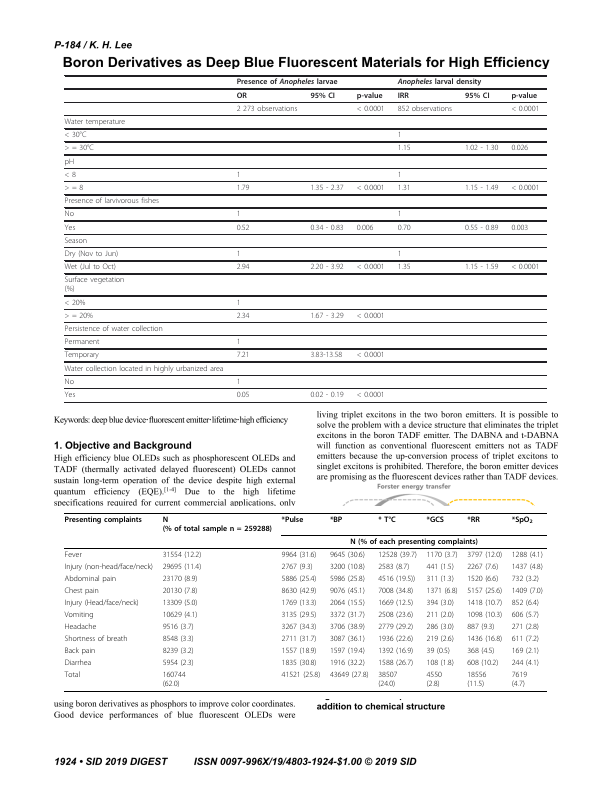borderless: (63, 74, 547, 402), (63, 511, 547, 691)
cell: (162, 515, 273, 533), (64, 364, 224, 374), (349, 537, 479, 547), (64, 276, 125, 294), (236, 78, 338, 87), (64, 562, 154, 572), (64, 325, 164, 334), (64, 197, 160, 206), (397, 78, 482, 87), (64, 598, 140, 608), (64, 515, 143, 524), (64, 634, 128, 644), (236, 104, 298, 114), (397, 104, 453, 114), (64, 118, 126, 127), (64, 574, 117, 584), (64, 250, 119, 259), (64, 263, 117, 272), (162, 670, 186, 688), (377, 550, 418, 560), (162, 550, 202, 560), (162, 562, 202, 572), (377, 574, 416, 584), (377, 670, 398, 688), (466, 670, 487, 688), (329, 550, 366, 560), (466, 550, 503, 560), (329, 562, 366, 572), (329, 574, 366, 584), (329, 586, 366, 596), (377, 586, 414, 596), (466, 586, 503, 596), (329, 598, 366, 608), (377, 598, 414, 608), (466, 598, 503, 608), (329, 610, 366, 620), (377, 610, 414, 620), (466, 610, 503, 620), (329, 622, 366, 632), (377, 622, 414, 632), (329, 634, 366, 644), (377, 634, 414, 644), (466, 634, 503, 644), (281, 550, 317, 560), (162, 574, 198, 584), (281, 574, 317, 584), (64, 586, 100, 596), (162, 586, 198, 596), (281, 586, 317, 596), (162, 598, 198, 608), (281, 598, 317, 608), (162, 610, 198, 620), (281, 610, 317, 620), (281, 622, 317, 632), (281, 634, 317, 644), (281, 670, 321, 679), (329, 670, 369, 679), (309, 223, 345, 233), (309, 311, 345, 321), (309, 390, 345, 400), (464, 223, 499, 233), (329, 646, 366, 655), (377, 646, 414, 655), (329, 658, 366, 667), (377, 658, 414, 667), (425, 550, 458, 560), (511, 550, 544, 560), (281, 562, 314, 572), (377, 562, 410, 572), (466, 562, 499, 572), (511, 562, 544, 572), (466, 574, 499, 584), (425, 586, 458, 596), (511, 586, 544, 596), (64, 622, 97, 632), (162, 622, 195, 632), (162, 634, 195, 644), (281, 646, 317, 655), (281, 658, 317, 667), (425, 670, 443, 688), (309, 184, 345, 193), (309, 263, 345, 272), (64, 338, 100, 347), (64, 351, 100, 360), (464, 144, 499, 153), (464, 184, 499, 193), (464, 263, 499, 272), (511, 670, 528, 688), (309, 351, 343, 360), (425, 562, 455, 572), (425, 574, 455, 584), (425, 598, 455, 608), (64, 610, 94, 620), (425, 610, 455, 620), (425, 622, 455, 632), (425, 634, 455, 644), (356, 104, 386, 114), (510, 104, 540, 114), (64, 311, 94, 321), (356, 311, 386, 321), (356, 390, 386, 400), (162, 646, 195, 655), (162, 658, 195, 667), (466, 658, 499, 667), (511, 574, 540, 584), (511, 598, 540, 608), (511, 610, 540, 620), (466, 622, 495, 632), (511, 622, 540, 632), (511, 634, 540, 644), (64, 646, 96, 655), (510, 91, 538, 101), (64, 144, 95, 153), (425, 658, 455, 667), (309, 91, 336, 101), (356, 91, 383, 101), (356, 184, 386, 193), (510, 184, 540, 193), (356, 263, 386, 272), (510, 263, 540, 272), (356, 351, 386, 360), (466, 646, 495, 655), (511, 646, 540, 655), (511, 658, 540, 667), (464, 91, 490, 101), (64, 658, 92, 667), (64, 236, 88, 246), (425, 646, 451, 655), (511, 515, 534, 525), (64, 298, 86, 308), (281, 515, 304, 524), (64, 131, 87, 140), (64, 550, 83, 560), (510, 223, 529, 233), (377, 515, 397, 524), (425, 515, 445, 524), (64, 184, 84, 193), (356, 223, 374, 233), (510, 144, 529, 153), (64, 670, 81, 679), (236, 223, 250, 233), (397, 223, 411, 233), (236, 311, 250, 321), (236, 390, 250, 400), (466, 515, 481, 524), (397, 91, 410, 101), (64, 170, 77, 180), (329, 515, 343, 524), (397, 144, 411, 153), (236, 184, 250, 193), (397, 184, 411, 193), (236, 263, 250, 272), (397, 263, 411, 272), (236, 351, 250, 360), (236, 91, 248, 101), (64, 223, 76, 233), (64, 390, 76, 400), (64, 157, 75, 167), (64, 377, 75, 387), (64, 210, 75, 219), (397, 170, 403, 180), (397, 131, 403, 140), (397, 210, 403, 219), (397, 250, 403, 259), (236, 170, 241, 180), (236, 298, 241, 308), (236, 377, 241, 387), (236, 210, 241, 219), (236, 250, 241, 259), (236, 338, 241, 347)
